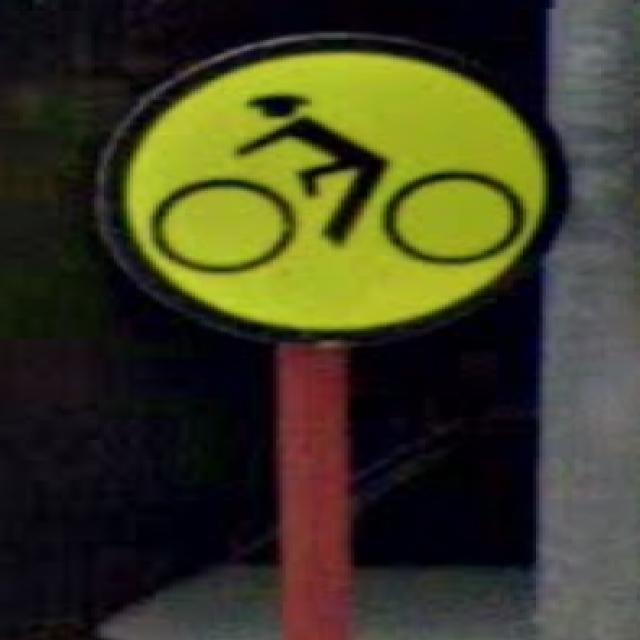bike lane: (97, 33, 572, 344)
